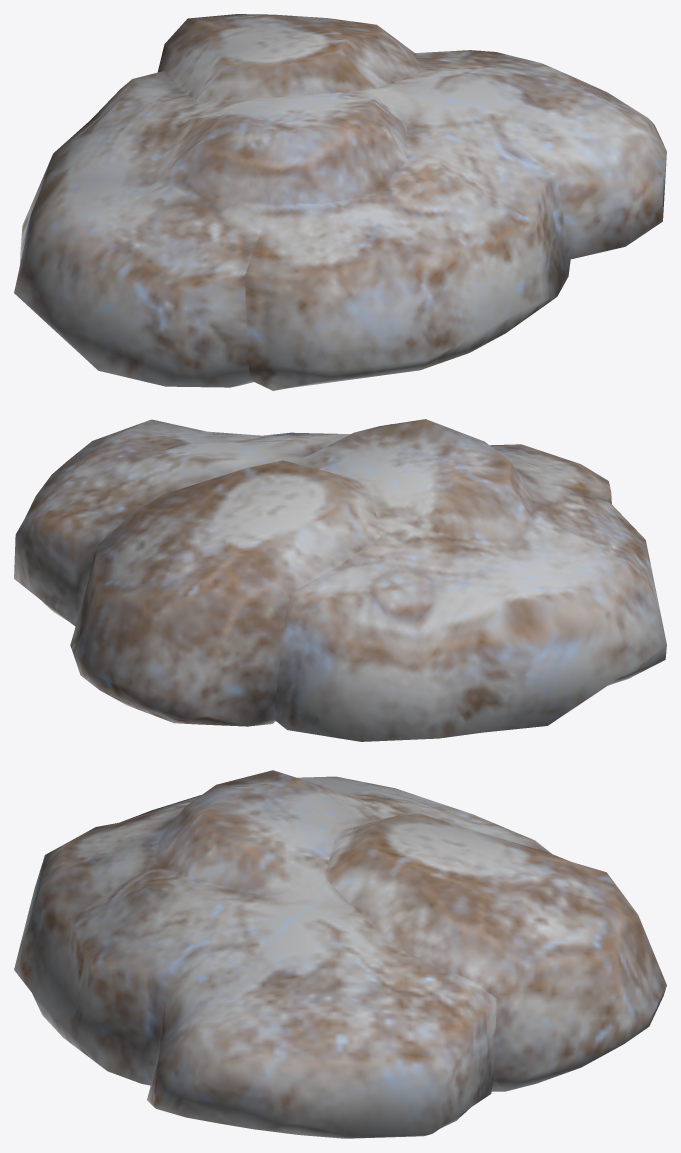
File: sb_obj_nature006_Stone02f.fbx
3 renders of one model, top to bottom at view 1: azimuth 30°, elevation 25°; view 2: azimuth 150°, elevation 25°; view 3: azimuth 270°, elevation 25°, orthographic. The views are drawn at different scales.
Visible parts, largest first — view 1: sb_obj_nature006_Stone02f; view 2: sb_obj_nature006_Stone02f; view 3: sb_obj_nature006_Stone02f.
Part boxes in pixels (x1,y1,x2,y2): sb_obj_nature006_Stone02f: [14, 14, 666, 390]; sb_obj_nature006_Stone02f: [14, 419, 666, 741]; sb_obj_nature006_Stone02f: [14, 770, 666, 1138].
Bounding box in the file's own units: 0.8885 × 0.293 × 0.8052.
